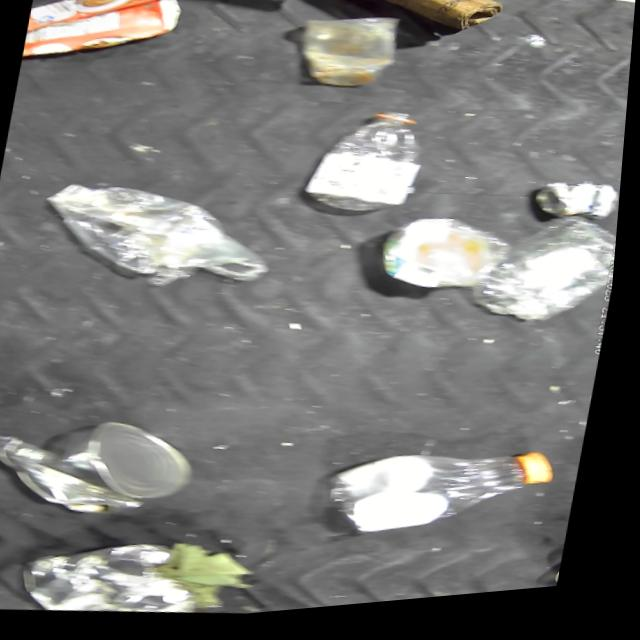can: (0, 404, 214, 536), (528, 186, 625, 239)
non_white_jug: (21, 0, 188, 74)
plastic_bottle: (321, 437, 568, 566), (303, 107, 436, 230)
